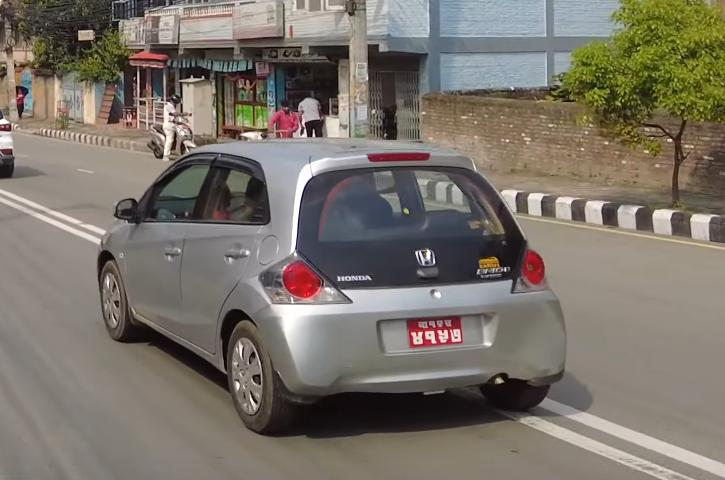car: (91, 138, 575, 426)
scooter: (144, 110, 199, 159)
